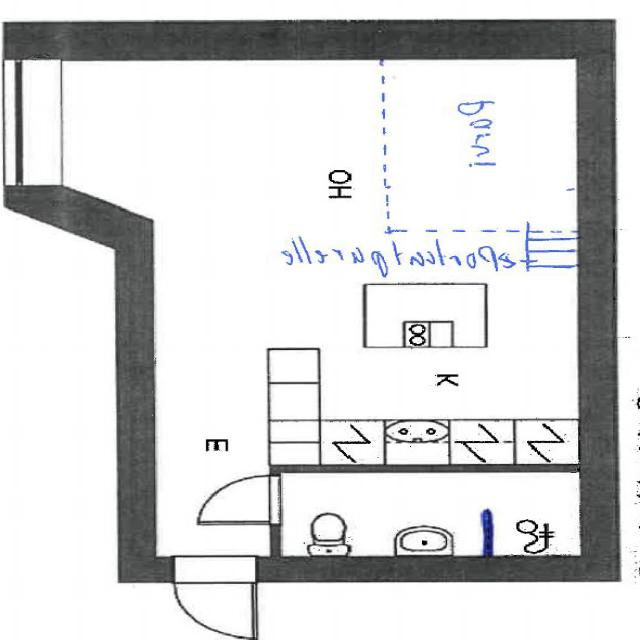door: (176, 557, 256, 639), (202, 477, 281, 524)
